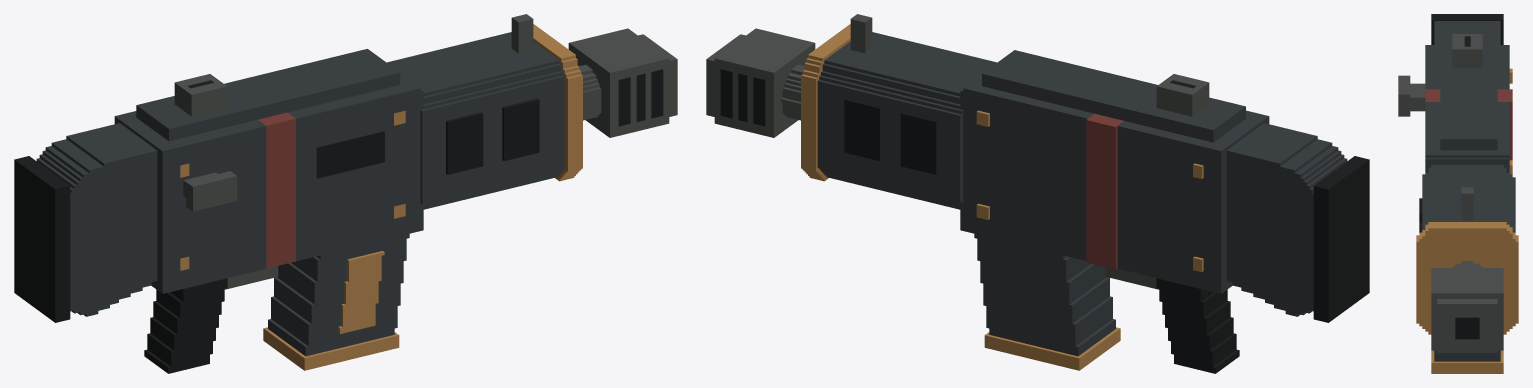
The model's file is bolt_carbine.glb.
3 renders of one model, left to right at view 1: azimuth 30°, elevation 25°; view 2: azimuth 150°, elevation 25°; view 3: azimuth 270°, elevation 25°, orthographic. The views are drawn at different scales.
Parts seen in each view (by area): view 1: bolt_carbine:compound; view 2: bolt_carbine:compound; view 3: bolt_carbine:compound.
Boxes of the visible parts, x1,y1,x2,y2 form: bolt_carbine:compound: (14,14,677,373); bolt_carbine:compound: (706,14,1369,373); bolt_carbine:compound: (1398,14,1518,373).
Bounding box in the file's own units: 0.844 × 0.376 × 0.16.
